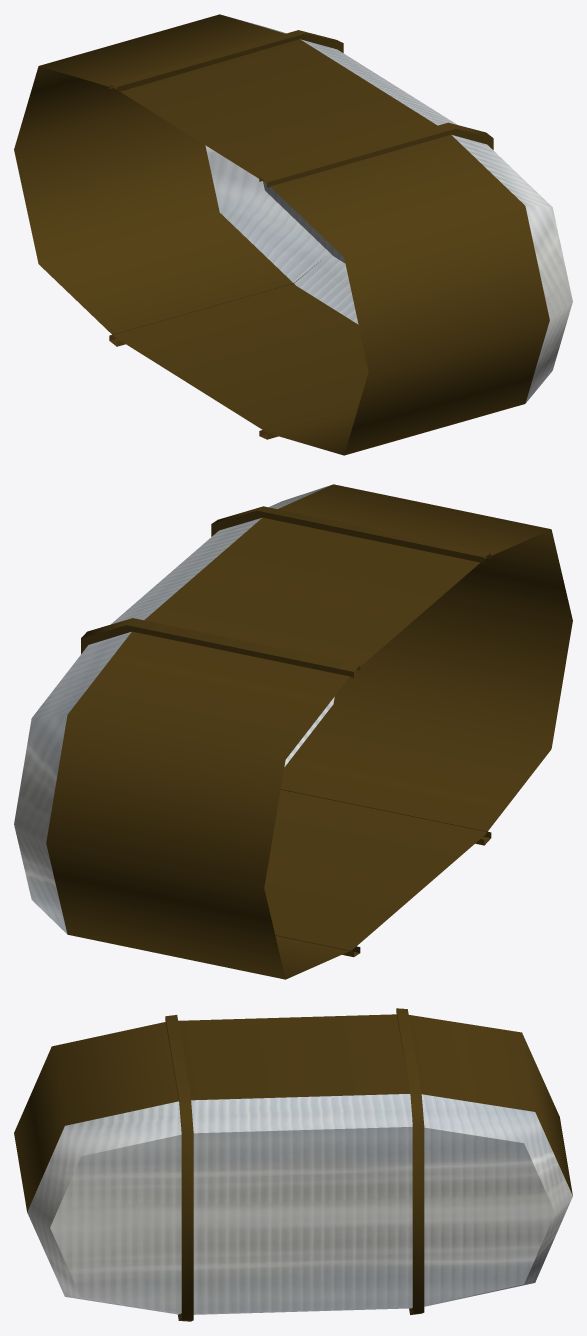
Rendered from Cave_Lamp.FBX.
3 renders of one model, top to bottom at view 1: azimuth 30°, elevation 25°; view 2: azimuth 150°, elevation 25°; view 3: azimuth 270°, elevation 25°, orthographic. The views are drawn at different scales.
Visible parts, largest first — view 1: lihht; view 2: lihht; view 3: lihht.
Boxes of the visible parts, x1,y1,x2,y2 form: lihht: (14, 14, 572, 455); lihht: (14, 484, 572, 979); lihht: (14, 1008, 572, 1321).
Size of the model in its own units: 0.2784 by 0.2621 by 0.5929.
